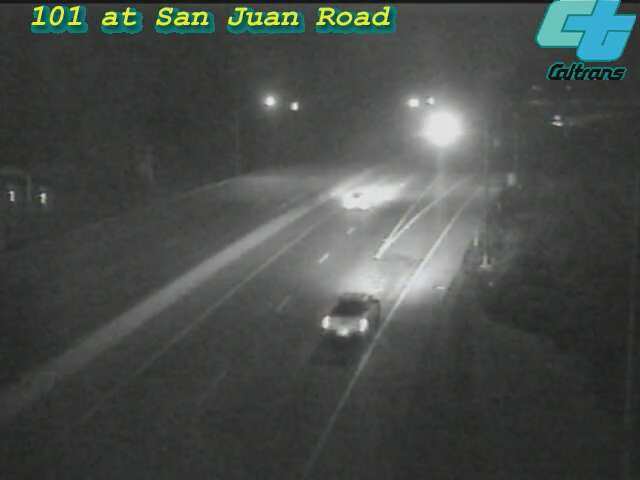vehicle: (295, 266, 405, 376), (322, 159, 402, 239), (416, 105, 466, 155), (540, 95, 590, 145)
